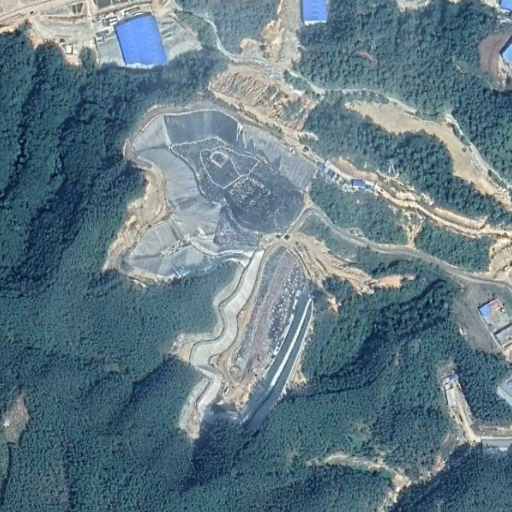lf: (122, 107, 307, 431)
